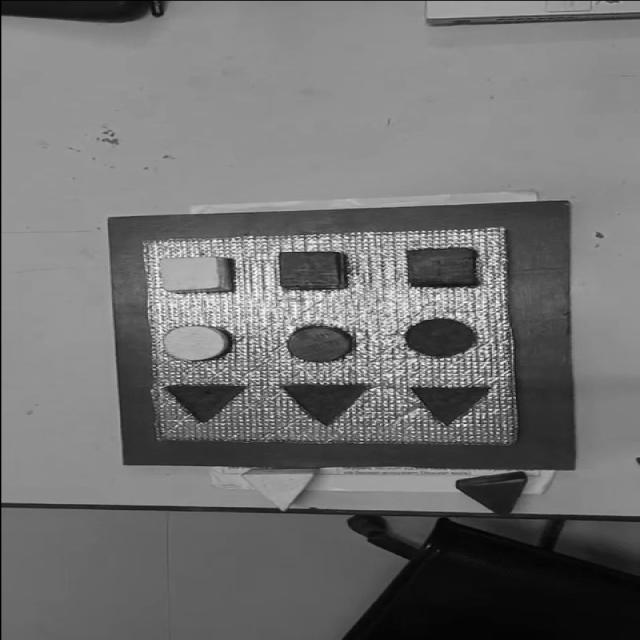bcube: (405, 247, 479, 288)
mtcircle: (402, 317, 480, 358)
mttriangle: (279, 382, 372, 427), (407, 384, 493, 426), (162, 383, 245, 423)
rcircle: (286, 326, 352, 362)
rcube: (277, 250, 347, 290)
rtriangle: (455, 470, 528, 515)
wb: (138, 228, 522, 446)
ycircle: (162, 326, 231, 362)
ycube: (156, 255, 230, 294)
ytriangle: (239, 466, 318, 512)
